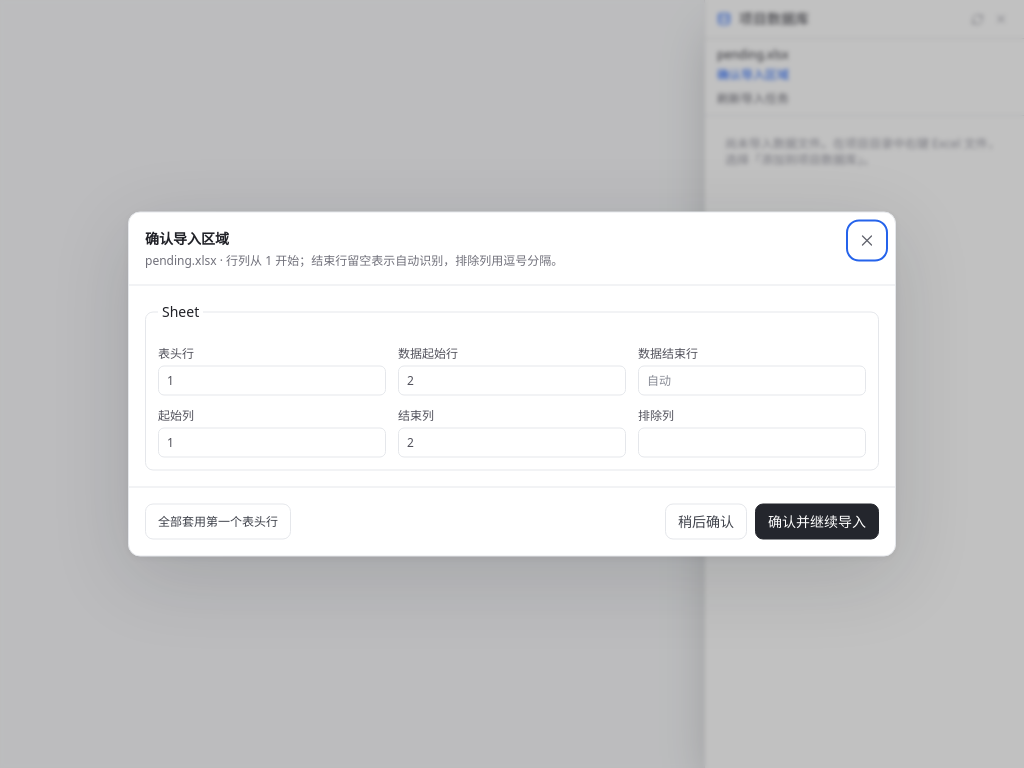
Test: region validation rejects a negative end row and retains edits after a rejected submission
Type "-1" into the number field named "Sheet 数据结束行" at (752, 380), box [638, 366, 866, 396]
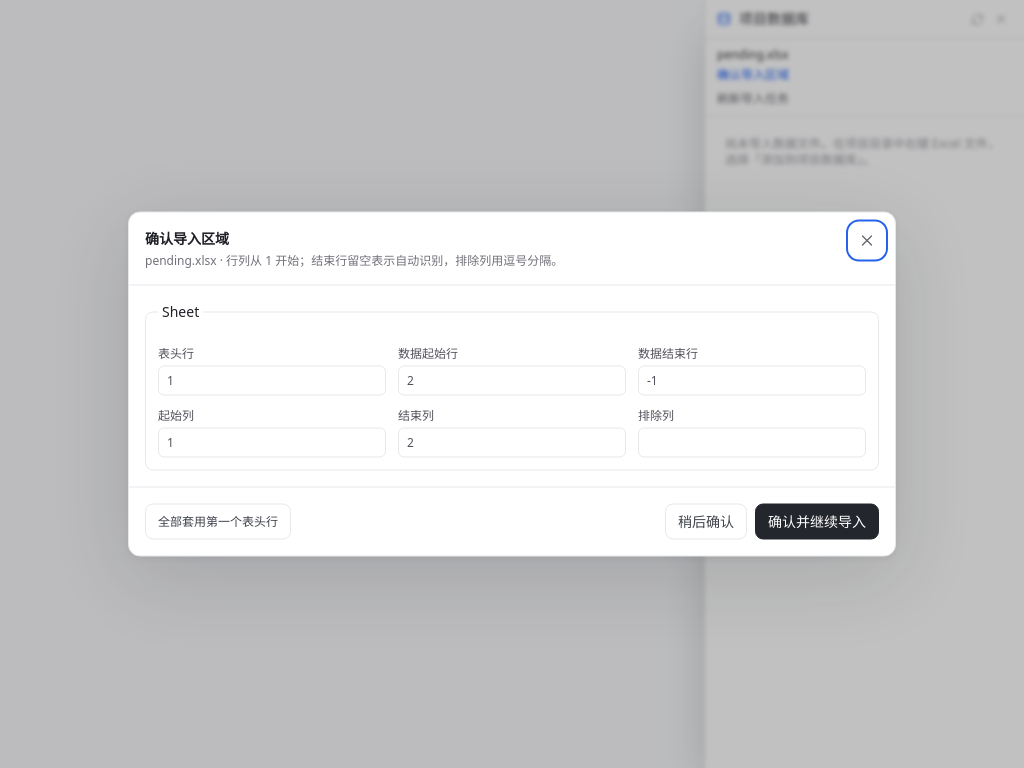
Click the button "确认并继续导入" at (817, 522), box [755, 504, 879, 540]
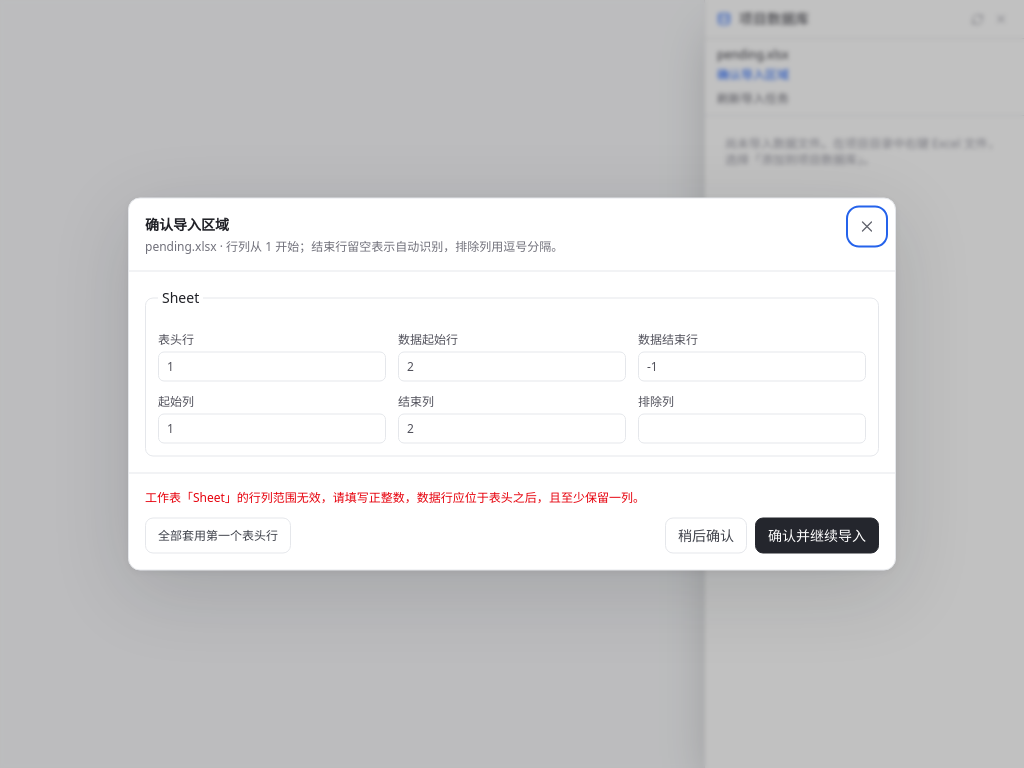
Now the message "工作表「Sheet」的行列范围无效，请填写正整数，数据行应位于表头之后，且至少保留一列。" is shown, box [145, 488, 645, 506]
Replace the text in the number field named "Sheet 数据结束行" with "5" at (752, 366), box [638, 352, 866, 382]
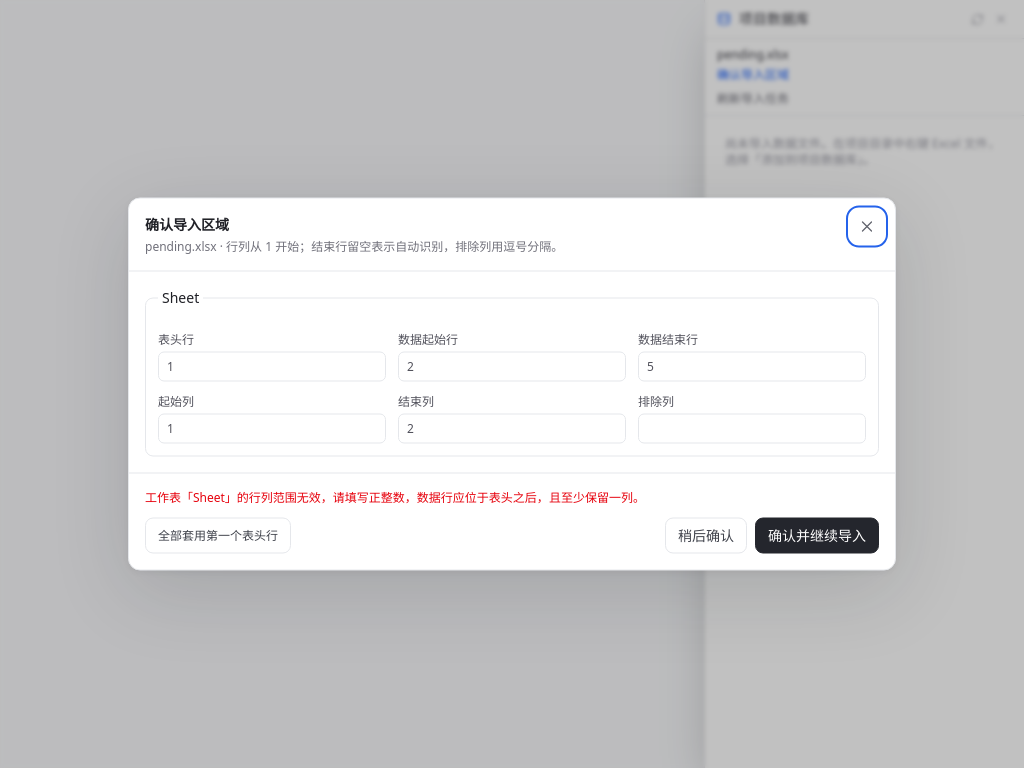
Click the button "确认并继续导入" at (817, 536), box [755, 518, 879, 554]
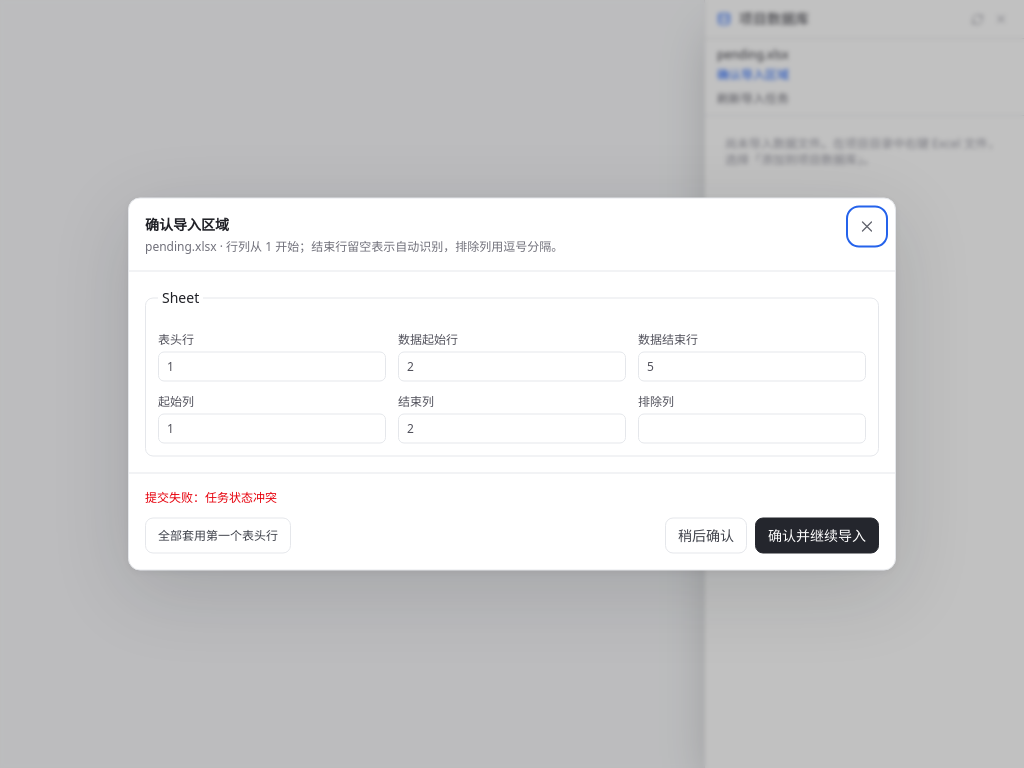
Now the text "提交失败：任务状态冲突" is shown, box [145, 488, 277, 506]
